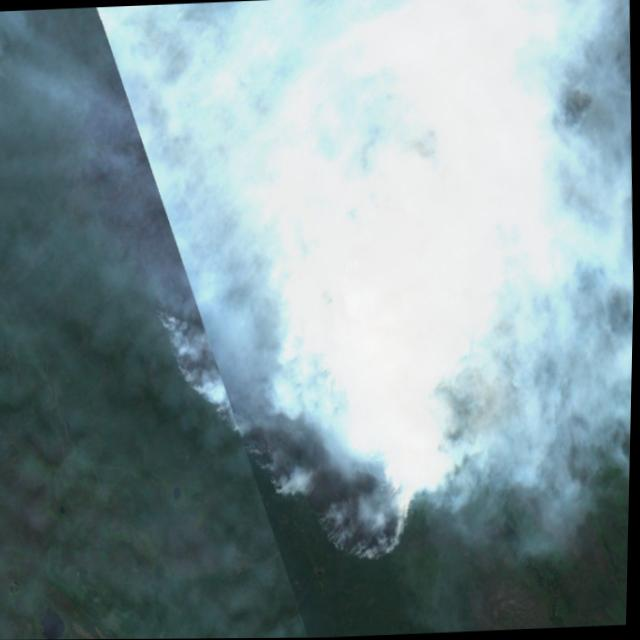fire: (148, 61, 444, 584)
